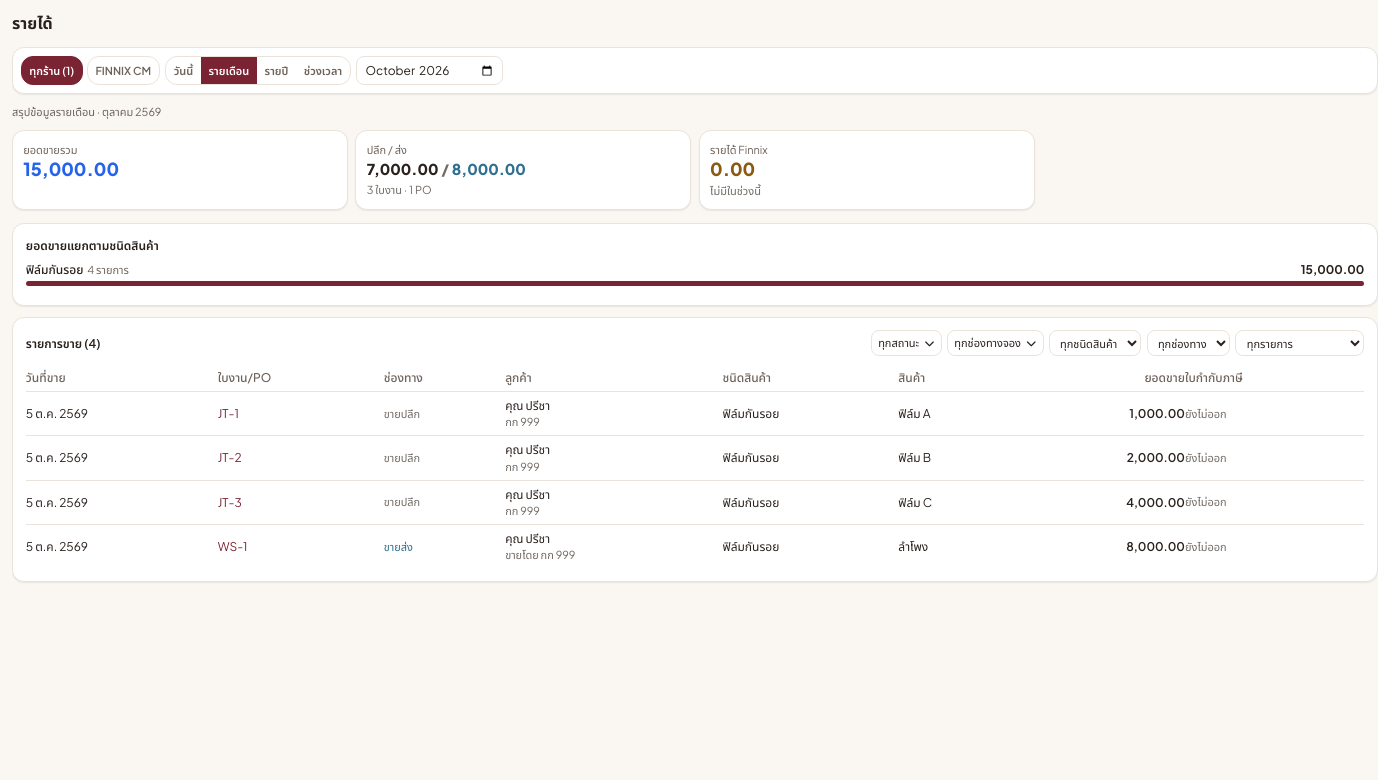
Test: RevenueModule — กรองตามจองผ่าน › เลือกสองช่องทางพร้อมกันได้
Step 1. Click the button with aria-label "กรองตามจองผ่าน" → [995, 343], box [947,330,1044,356]
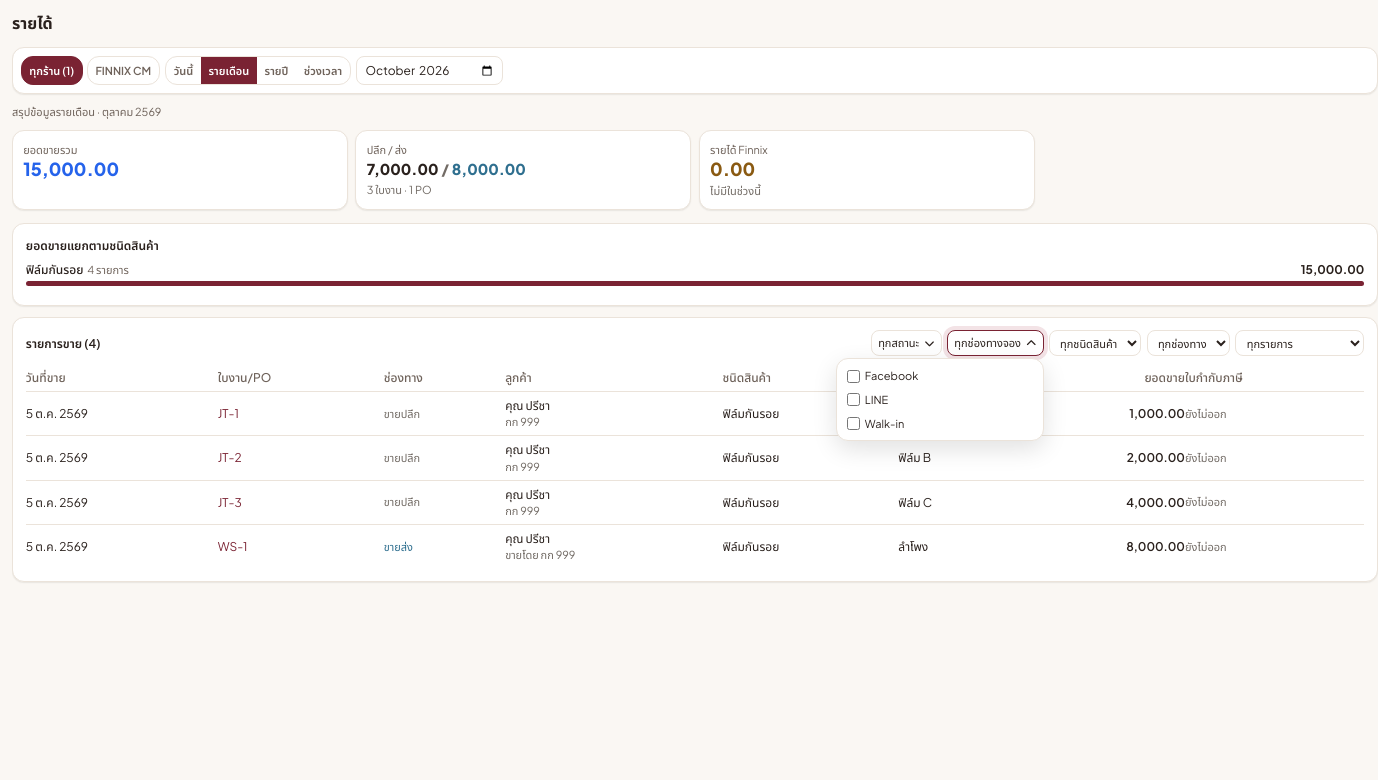
Step 2. Click the checkbox labelled "Facebook" → [853, 376], box [847,370,860,383]
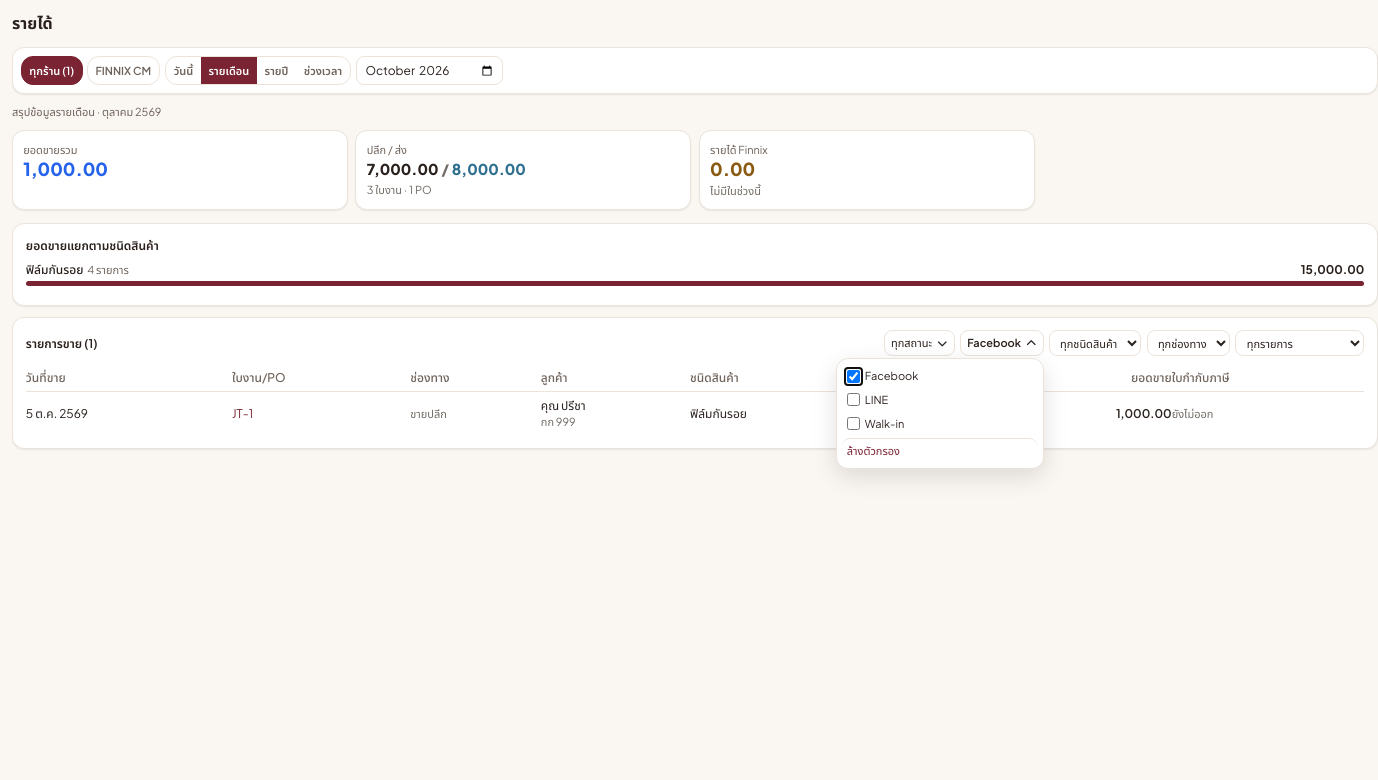
Step 3. Click the checkbox labelled "LINE" → [853, 400], box [847,393,860,406]
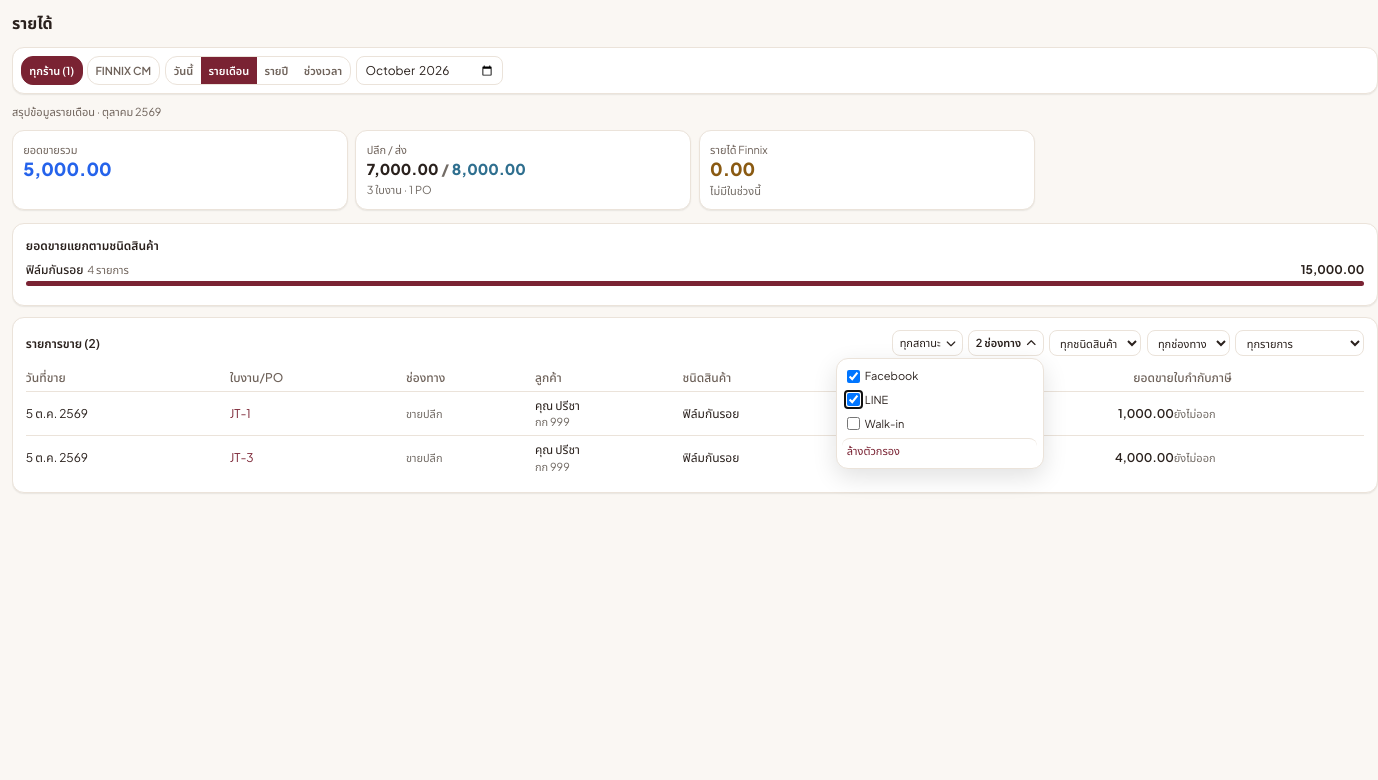
Expected: the text "ฟิล์ม A" is shown, [869,392,981,436]
Expected: the text "รายการขาย (2)" is shown, [26,334,100,352]
Expected: the button with aria-label "กรองตามจองผ่าน" reads "2 ช่องทาง", [968,330,1044,356]
